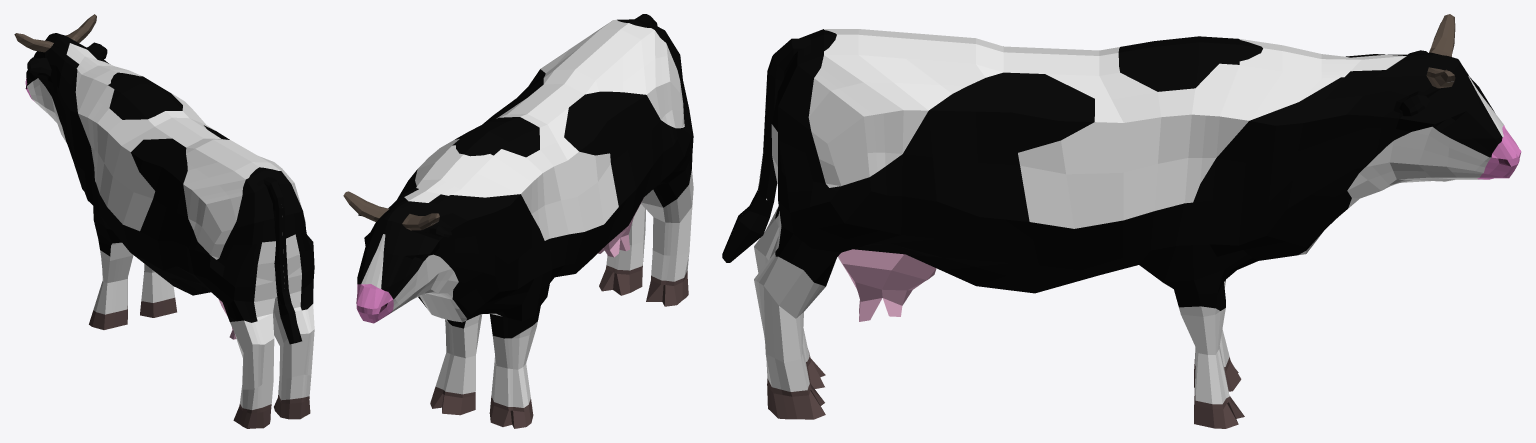
Rendered from Sketchfab_2022_11_14_00_10_34.fbx.
3 renders of one model, left to right at view 1: azimuth 30°, elevation 25°; view 2: azimuth 150°, elevation 25°; view 3: azimuth 270°, elevation 25°, orthographic. The views are drawn at different scales.
Visible parts, largest first — view 1: Cube; view 2: Cube; view 3: Cube.
Boxes of the visible parts, bbox=[...] form: Cube: bbox=[14, 14, 314, 428]; Cube: bbox=[343, 14, 693, 428]; Cube: bbox=[722, 14, 1521, 428].
Bounding box in the file's own units: 235 × 475 × 940.
